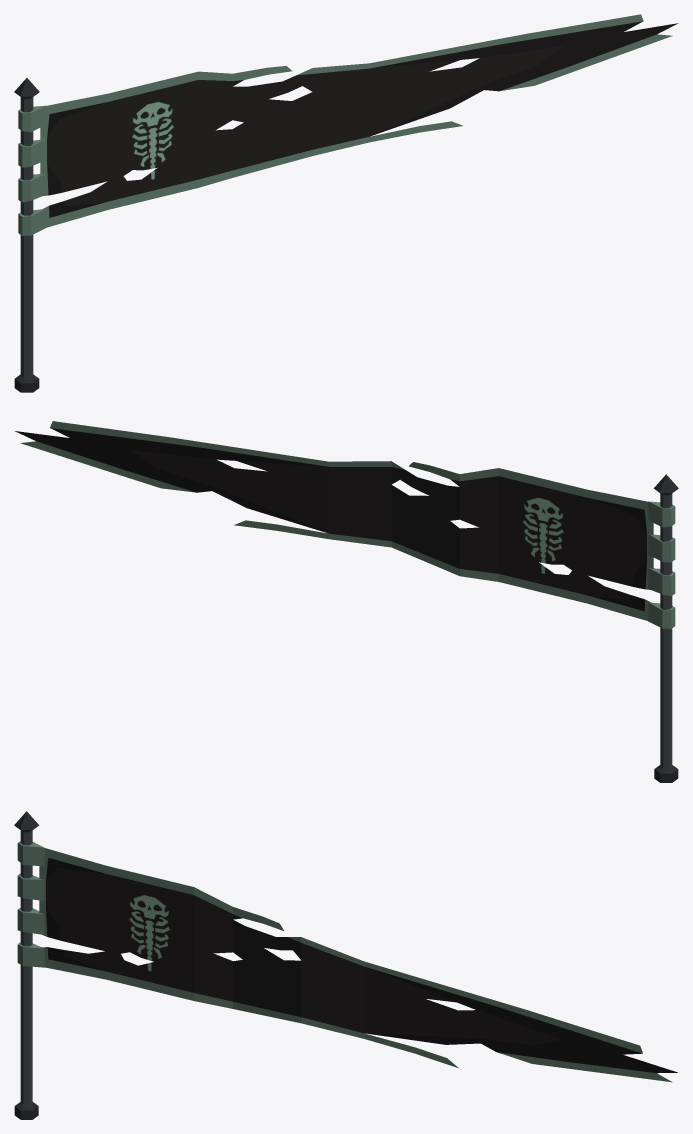
File: SM_Prop_Flag_03.fbx
The picture shows the model from 3 angles, top to bottom: view 1: azimuth 30°, elevation 25°; view 2: azimuth 150°, elevation 25°; view 3: azimuth 330°, elevation 25°; orthographic projection. The views are drawn at different scales.
Visible parts, largest first — view 1: SM_Prop_Flag_03; view 2: SM_Prop_Flag_03; view 3: SM_Prop_Flag_03.
Part boxes in pixels (<box>): SM_Prop_Flag_03: <box>14,14,678,392</box>; SM_Prop_Flag_03: <box>15,421,678,782</box>; SM_Prop_Flag_03: <box>14,811,677,1119</box>.
Bounding box in the file's own units: 1211 × 537 × 42.13.
